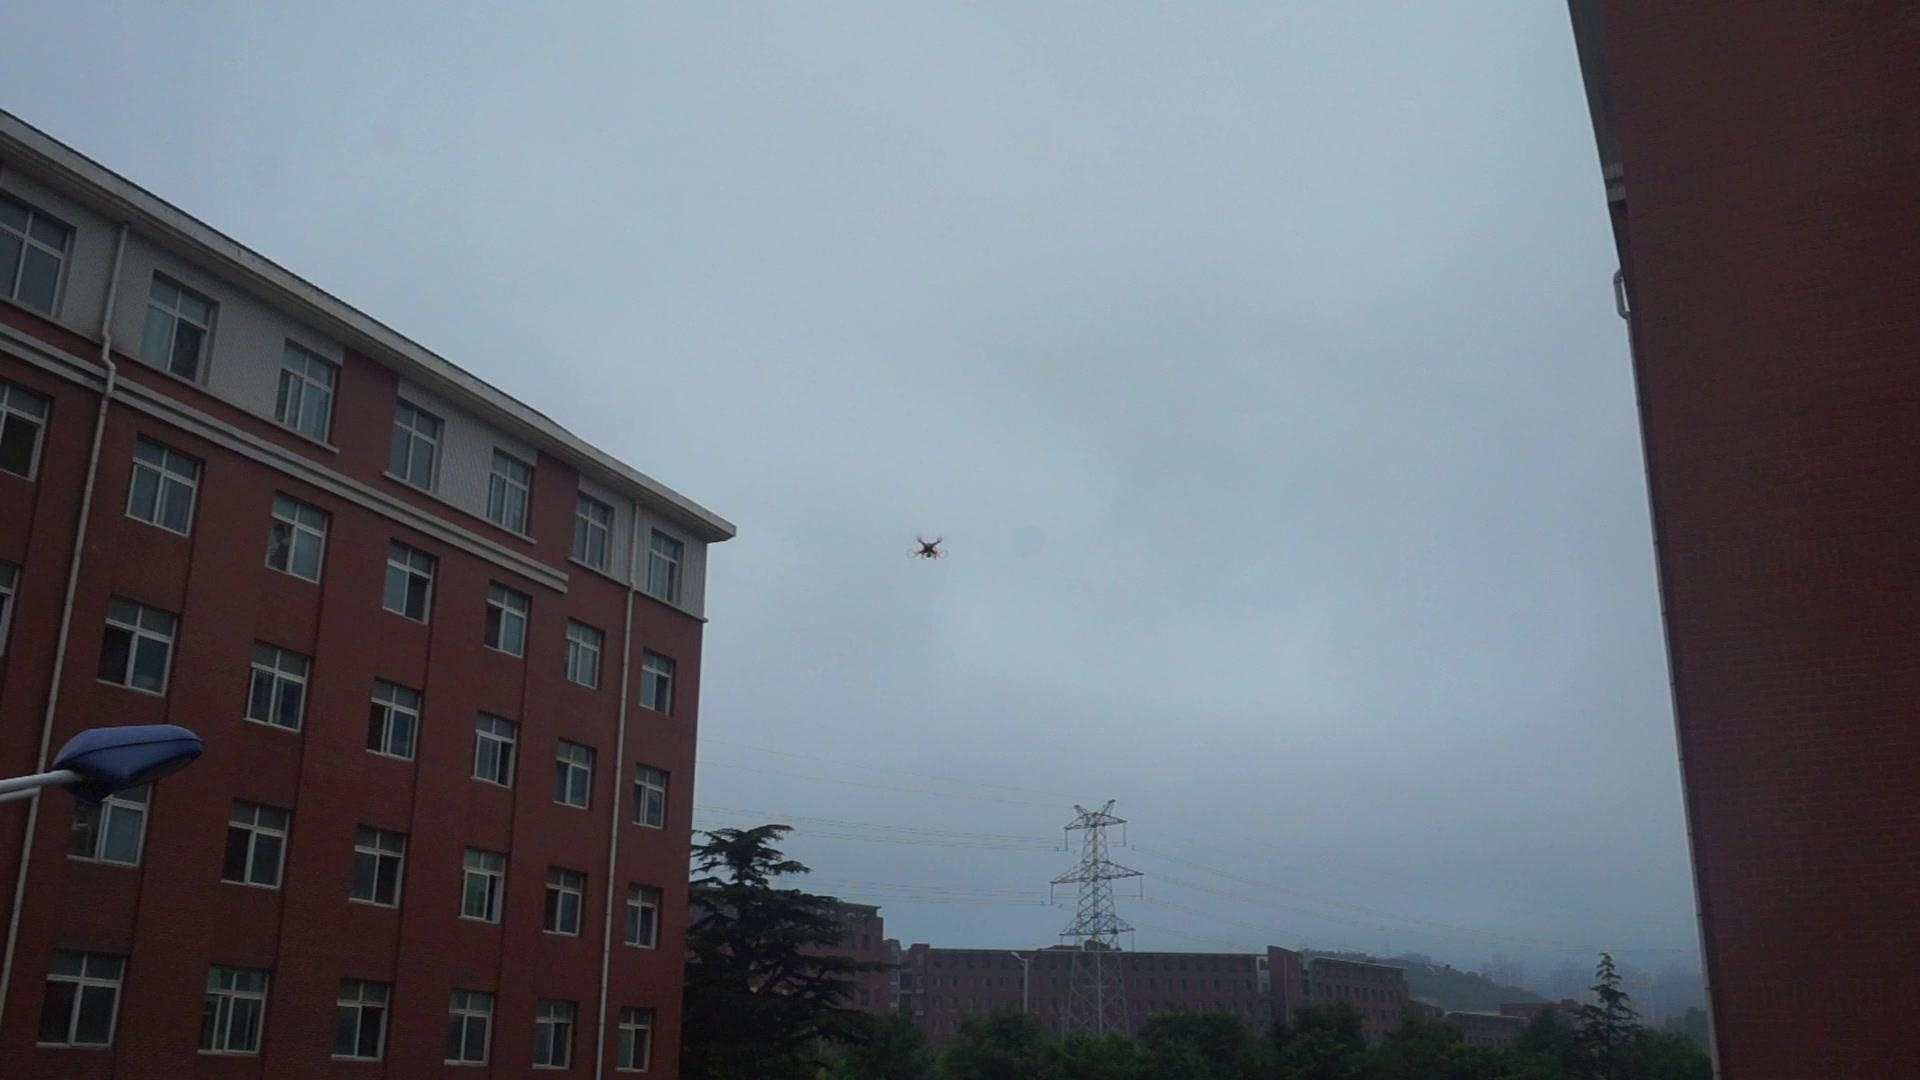UAV: (907, 537, 949, 560)
